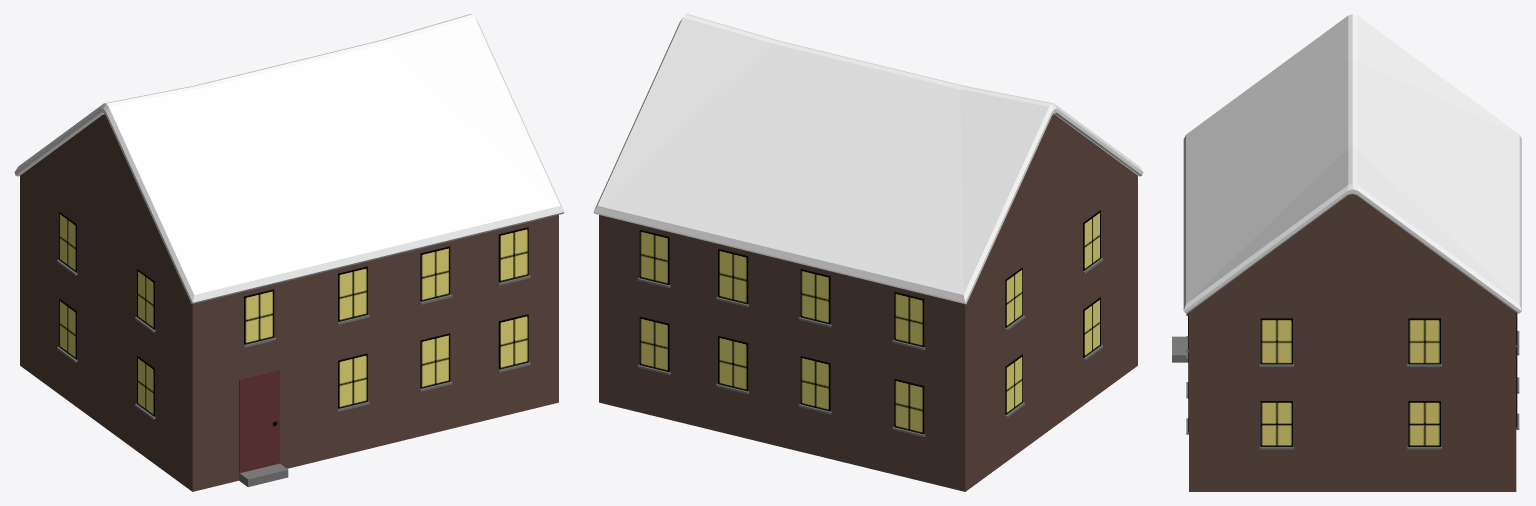
Rendered from house_2F_02.obj.
3 renders of one model, left to right at view 1: azimuth 30°, elevation 25°; view 2: azimuth 150°, elevation 25°; view 3: azimuth 270°, elevation 25°, orthographic. The views are drawn at different scales.
Size of the model in its own units: 844 by 706 by 726.
